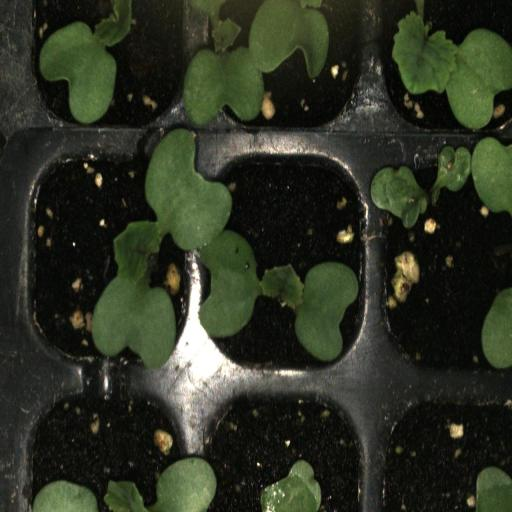Folha: (31, 456, 217, 512), (435, 137, 512, 214), (368, 166, 427, 229), (260, 459, 322, 512), (481, 287, 512, 369), (476, 466, 512, 512)
Germinacao: (197, 149, 373, 391), (17, 152, 196, 380), (373, 150, 512, 389), (188, 0, 373, 147), (22, 0, 194, 144), (371, 0, 512, 145)
